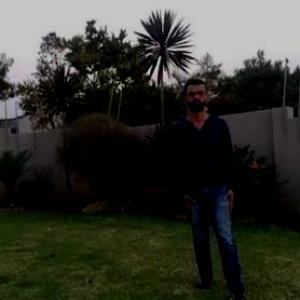follow: (165, 54, 249, 299)
